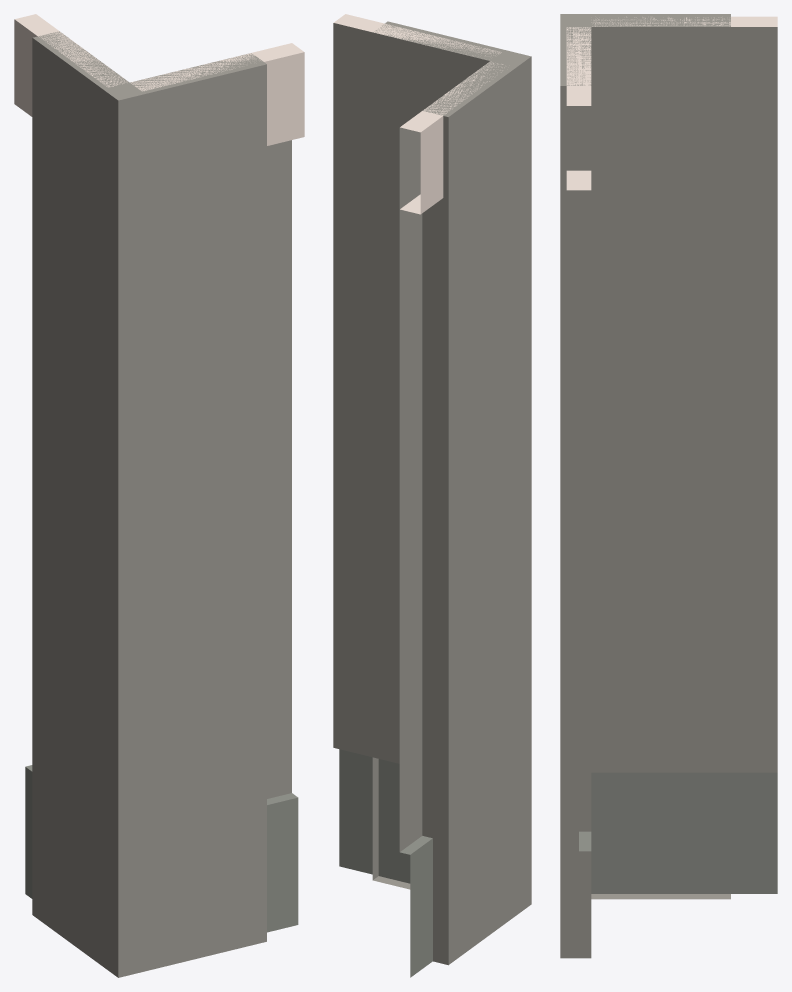
The picture shows the model from 3 angles, left to right: view 1: azimuth 30°, elevation 25°; view 2: azimuth 150°, elevation 25°; view 3: azimuth 270°, elevation 25°; orthographic projection. The views are drawn at different scales.
Visible parts, largest first — view 1: a2001/800/base-c1; view 2: a2001/800/base-c1; view 3: a2001/800/base-c1.
Part boxes in pixels (x1=…): a2001/800/base-c1: x1=14, y1=14, x2=304, y2=977; a2001/800/base-c1: x1=333, y1=14, x2=531, y2=977; a2001/800/base-c1: x1=560, y1=14, x2=777, y2=958.
Size of the model in its own units: 0.7 by 3.1 by 0.7.
